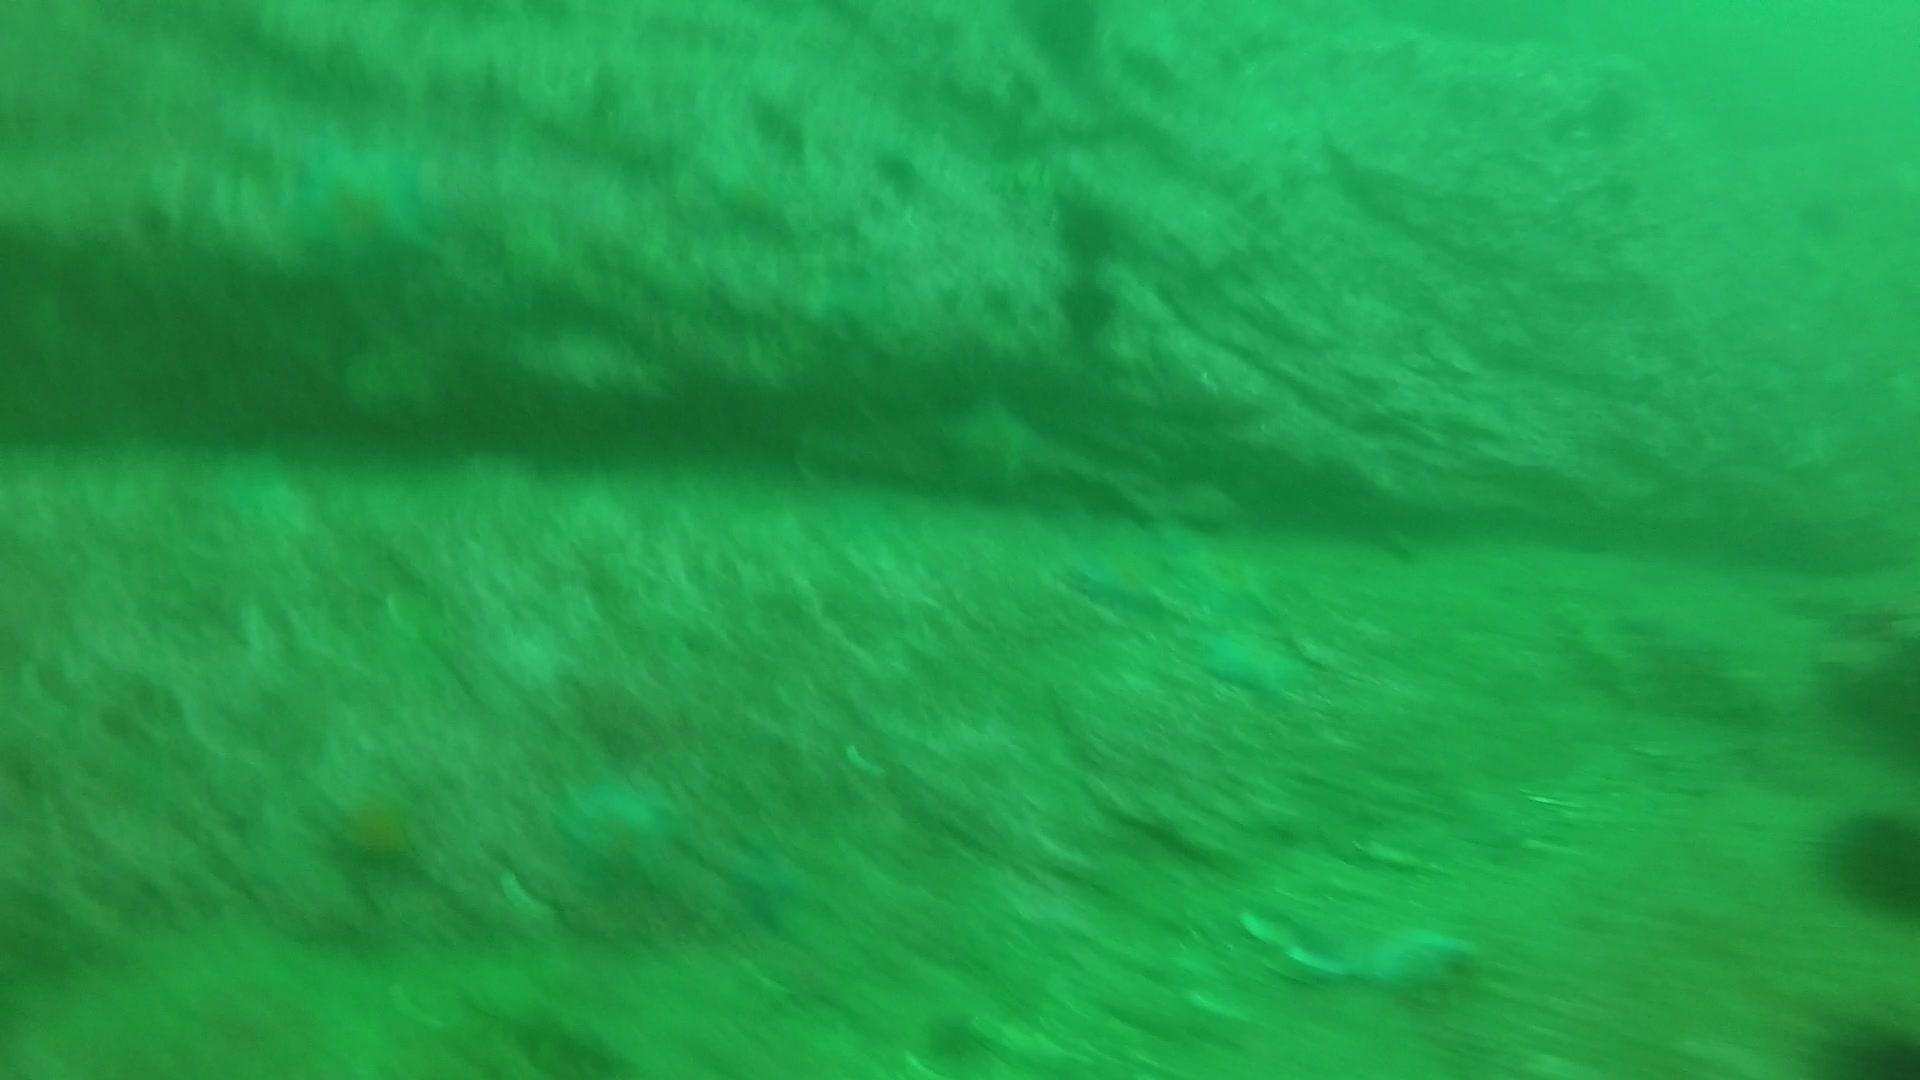echinus: (1812, 799, 1919, 923), (1795, 1007, 1919, 1076), (1007, 0, 1112, 73), (1046, 183, 1130, 269), (1048, 268, 1127, 348)
starfish: (1244, 876, 1482, 1000), (270, 127, 444, 282), (545, 758, 696, 911), (313, 767, 434, 884), (1160, 530, 1283, 626), (1193, 613, 1316, 705), (1063, 542, 1179, 622)
